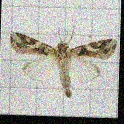Spodoptera litura: (7, 23, 116, 97)
